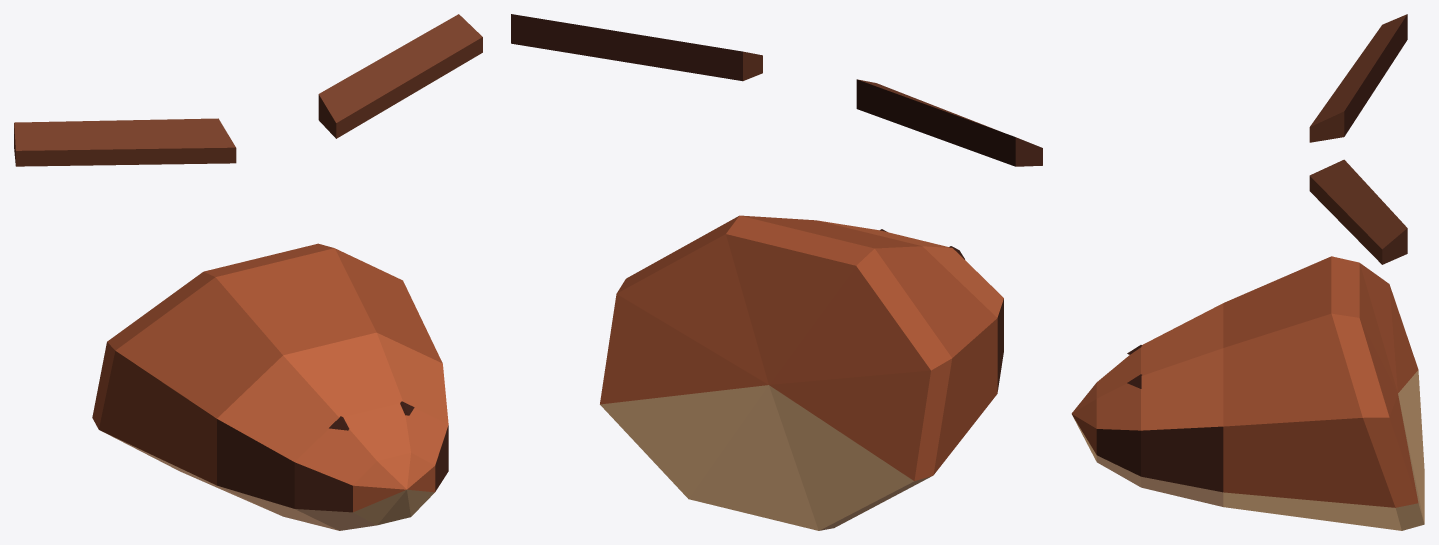
The model's file is snout_kb_pointed.glb.
The picture shows the model from 3 angles, left to right: view 1: azimuth 30°, elevation 25°; view 2: azimuth 150°, elevation 25°; view 3: azimuth 270°, elevation 25°; orthographic projection. The views are drawn at different scales.
Visible parts, largest first — view 1: Snout; view 2: Snout; view 3: Snout.
Boxes of the visible parts, x1,y1,x2,y2 form: Snout: [14, 14, 482, 530]; Snout: [511, 14, 1042, 530]; Snout: [1071, 14, 1424, 530].
Size of the model in its own units: 0.168 by 0.1329 by 0.1115.
1 material, 1 textured.
